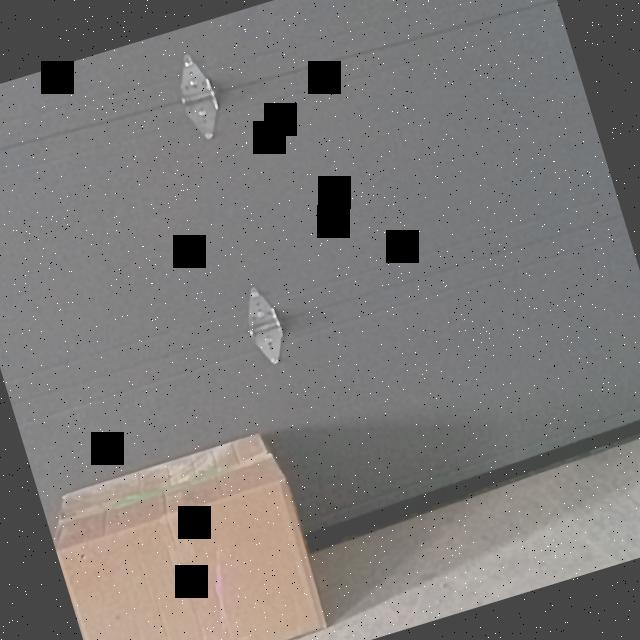box: (54, 476, 331, 640)
